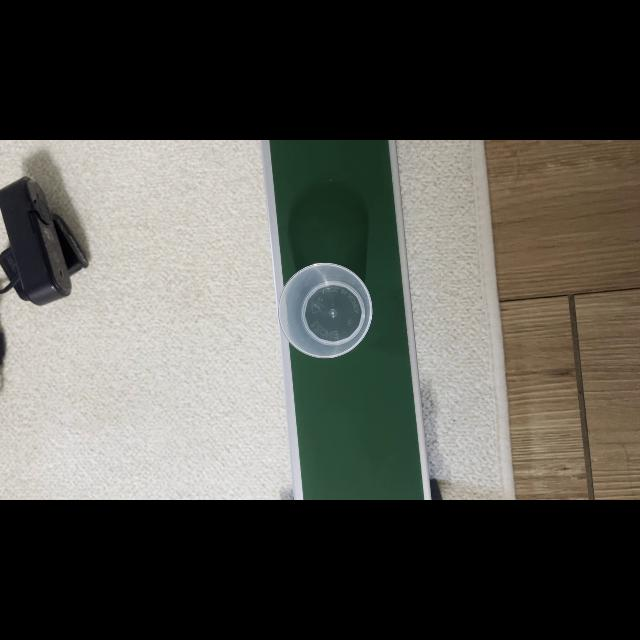clean: (278, 262, 374, 360)
